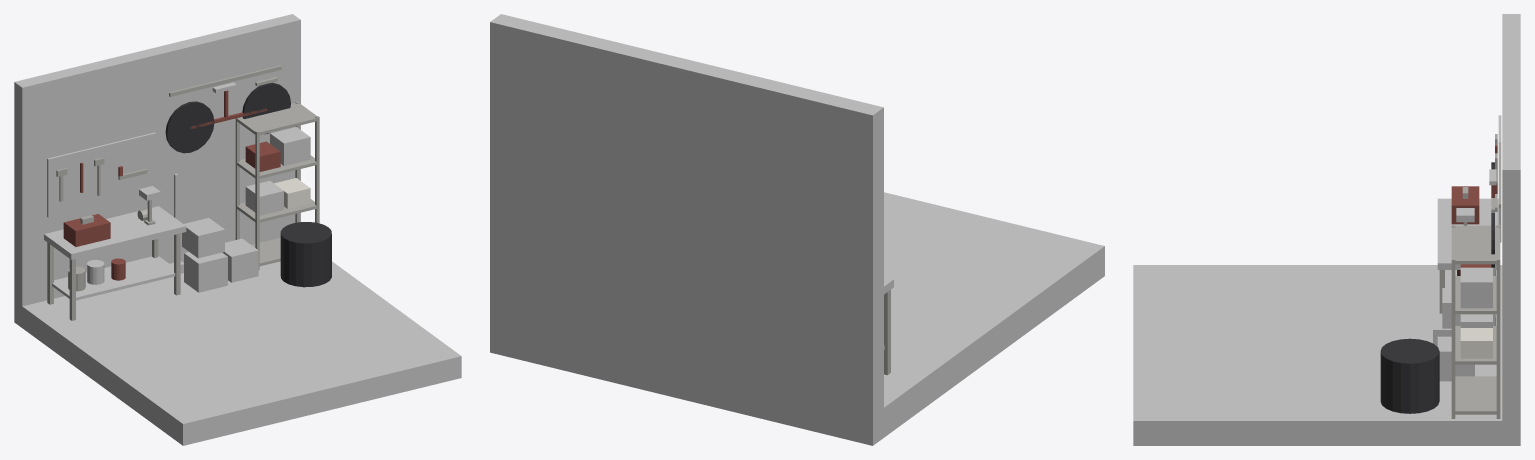
The model's file is Room_Workshop.fbx.
3 renders of one model, left to right at view 1: azimuth 30°, elevation 25°; view 2: azimuth 150°, elevation 25°; view 3: azimuth 270°, elevation 25°, orthographic. The views are drawn at different scales.
Parts seen in each view (by area): view 1: Workshop_Floor, Workshop_BackWall, Workshop_Shelving, Workshop_Pegboard, Workshop_Workbench, Workshop_Bike_Random, Workshop_Boxes_Random, Workshop_Tyres_Random, Workshop_Toolbox_Random, Workshop_PaintCans_Random; view 2: Workshop_BackWall, Workshop_Floor, Workshop_Workbench; view 3: Workshop_Floor, Workshop_Shelving, Workshop_BackWall, Workshop_Tyres_Random, Workshop_Workbench, Workshop_Boxes_Random, Workshop_Toolbox_Random, Workshop_Bike_Random, Workshop_Pegboard.
Boxes of the visible parts, x1,y1,x2,y2 form: Workshop_Floor: (14,261,461,445); Workshop_BackWall: (14,14,300,306); Workshop_Shelving: (235,101,319,269); Workshop_Pegboard: (47,132,156,217); Workshop_Workbench: (44,206,186,320); Workshop_Bike_Random: (165,65,290,153); Workshop_Boxes_Random: (182,218,258,292); Workshop_Tyres_Random: (280,222,331,287); Workshop_Toolbox_Random: (63,214,110,246); Workshop_PaintCans_Random: (68,258,125,291); Workshop_BackWall: (490,14,883,415); Workshop_Floor: (490,192,1104,445); Workshop_Workbench: (884,277,893,375); Workshop_Floor: (1133,265,1520,445); Workshop_Shelving: (1451,225,1500,418); Workshop_BackWall: (1502,14,1520,420); Workshop_Tyres_Random: (1380,338,1439,413); Workshop_Workbench: (1437,198,1498,325); Workshop_Boxes_Random: (1433,288,1474,381); Workshop_Toolbox_Random: (1451,186,1479,224); Workshop_Bike_Random: (1489,142,1501,267); Workshop_Pegboard: (1495,115,1501,242).
Bounding box in the file's own units: 4 × 3.3 × 4.2.
